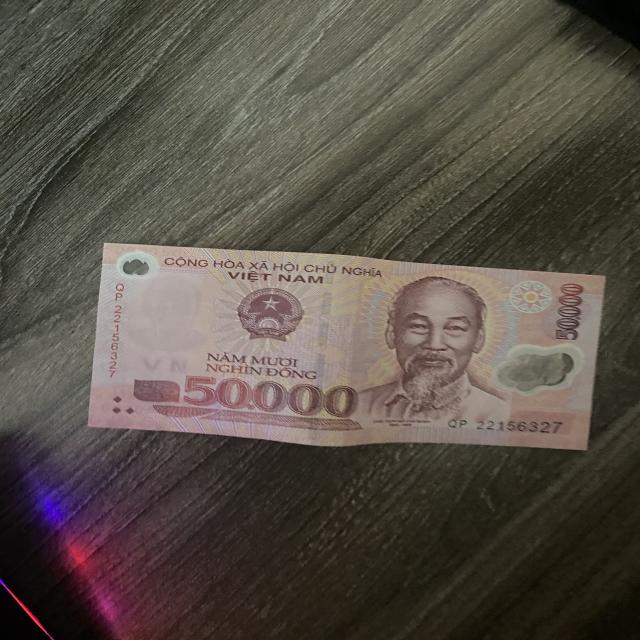50 000 VND: (85, 240, 608, 453)
